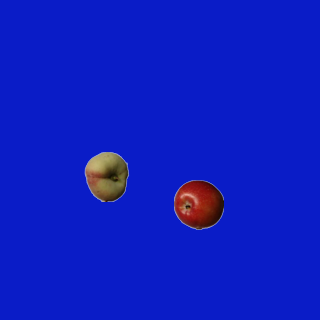Apple Braeburn: (173, 179, 223, 229)
Peach Flat: (81, 151, 131, 201)
